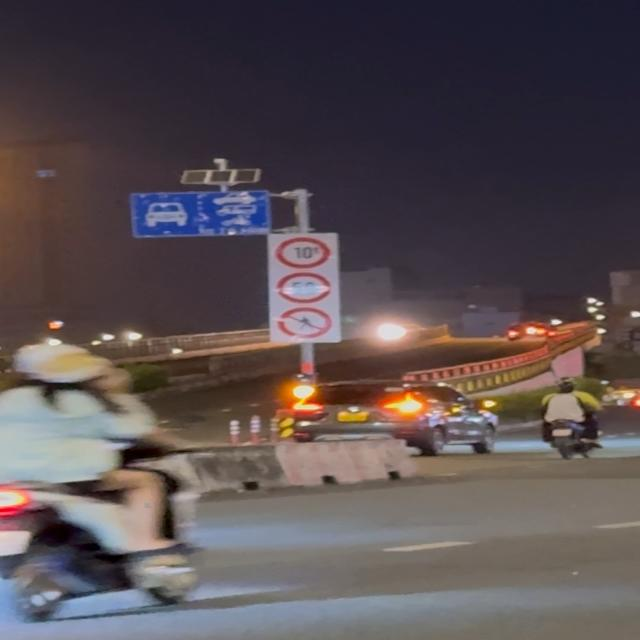Bien bao cam nguoi di bo: (277, 306, 338, 340)
Bien bao toc do toi da cho phep: (274, 272, 332, 304)
